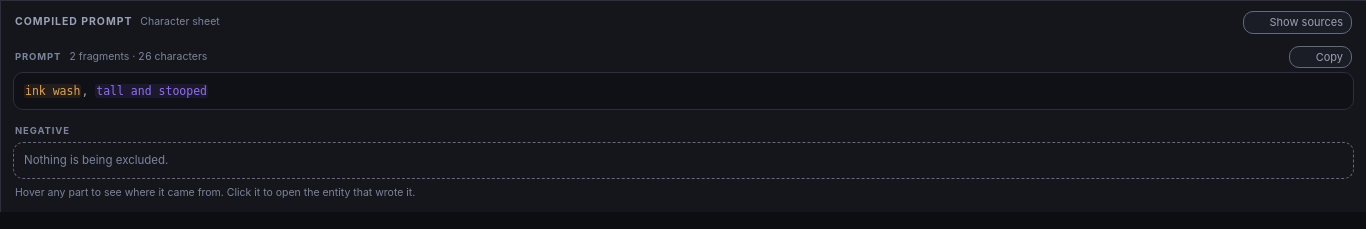
Test case: the compiled prompt › attributes every fragment in words as well as in colour
Hover over the link "ink wash" at (53, 91), box [24,84,81,98]
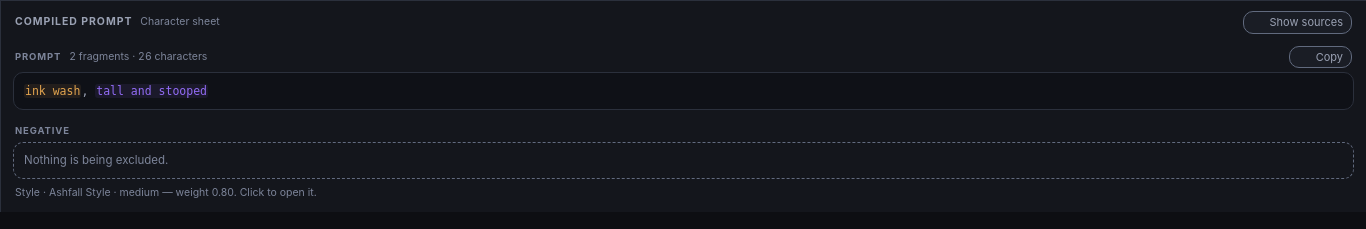
Expected: the text "Style · Ashfall Style · medium — weight 0.80" is shown, [15,186,317,199]
